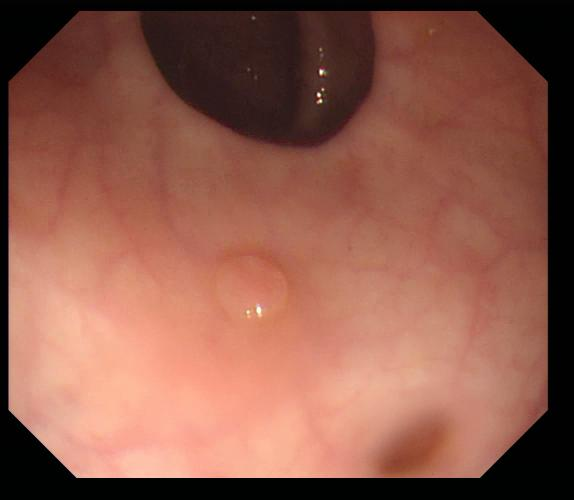polyp: (211, 249, 295, 327)
